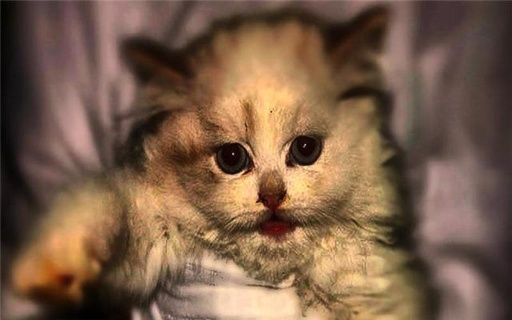Cat: (6, 5, 433, 319)
